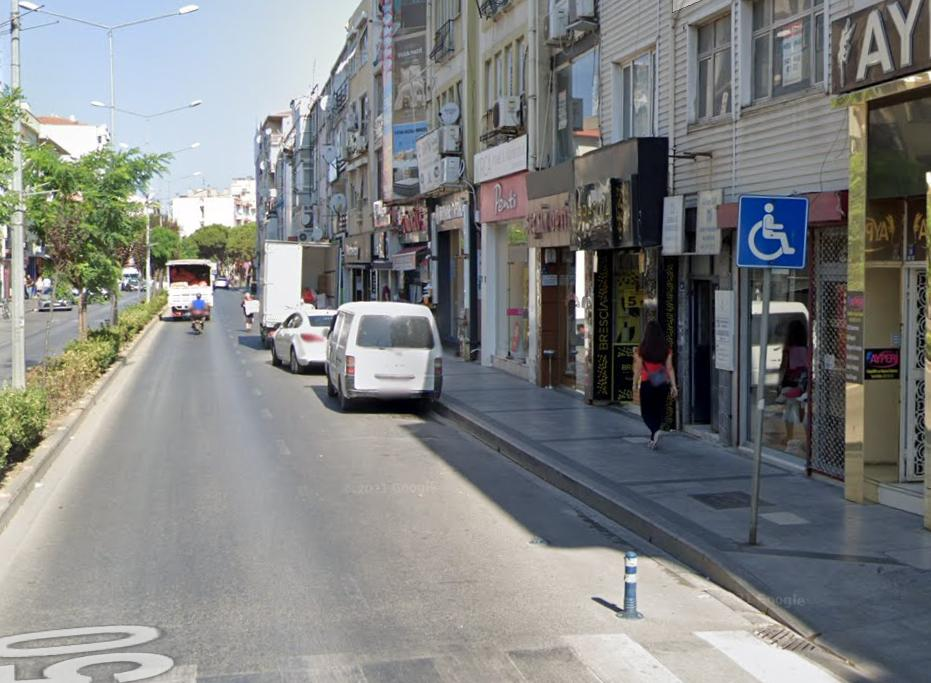disabledpark: (740, 193, 807, 268)
